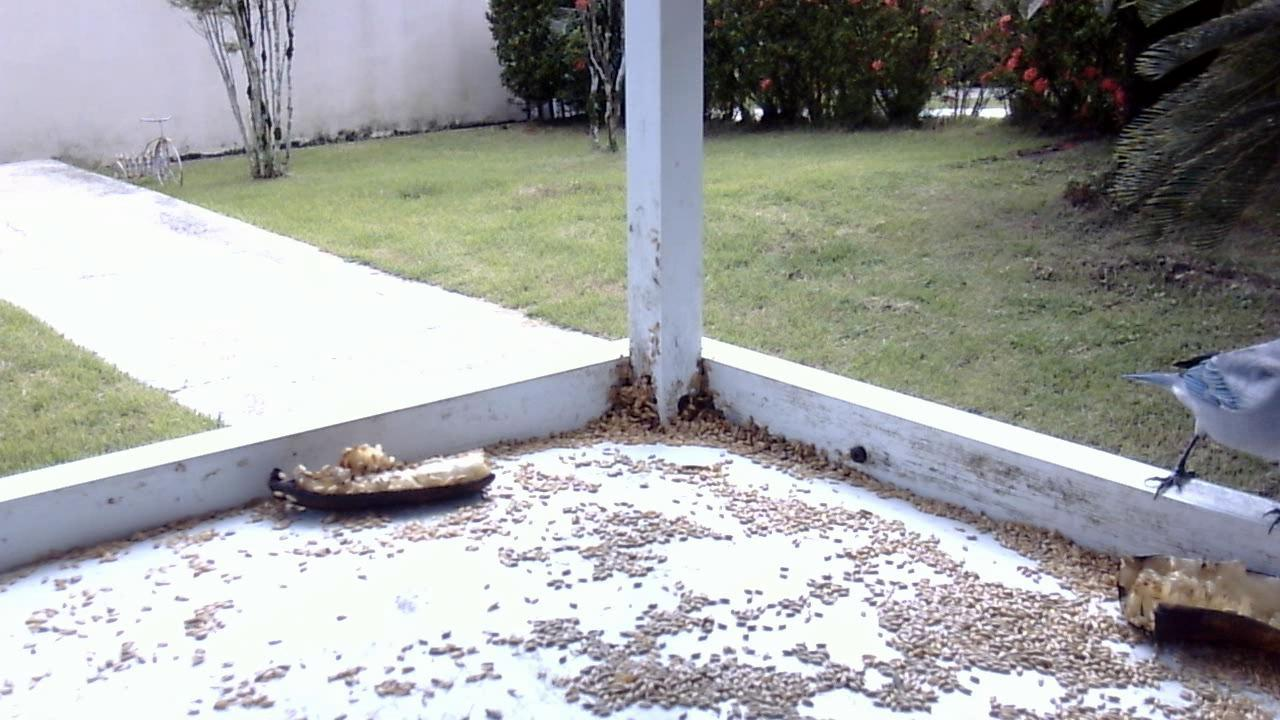sanhaco_da_amazonia: (1111, 319, 1278, 540)
